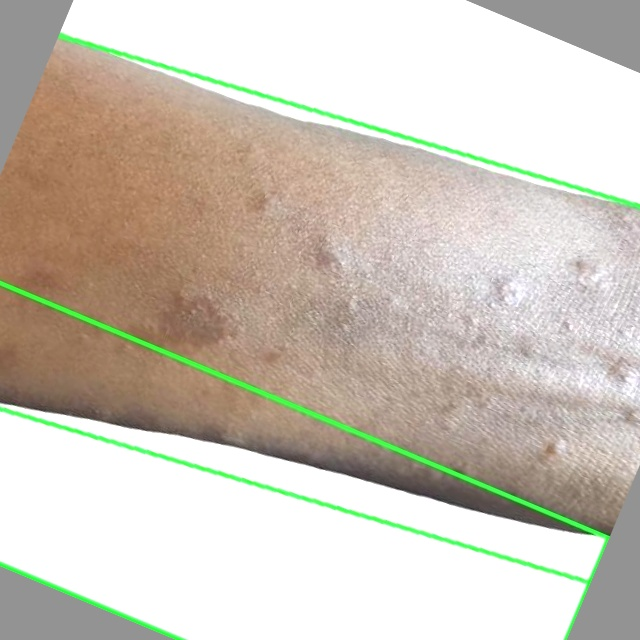Scabies: (0, 38, 639, 580), (0, 284, 607, 639)
